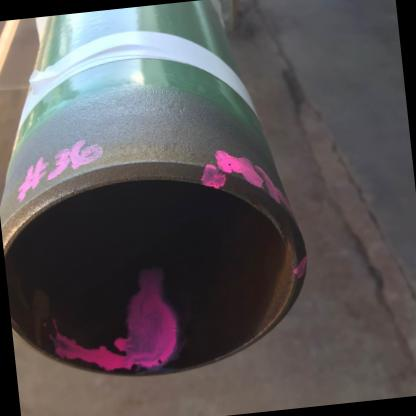Bevel: (234, 182, 266, 220)
